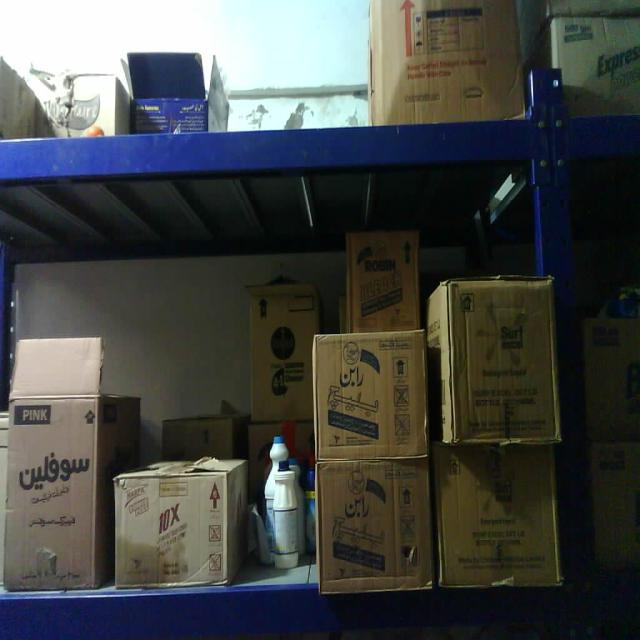box: (444, 276, 562, 444), (368, 2, 529, 123), (435, 440, 563, 590), (4, 392, 99, 593), (317, 458, 437, 594), (312, 331, 431, 460), (113, 471, 230, 590), (248, 289, 317, 420), (346, 231, 423, 333)
